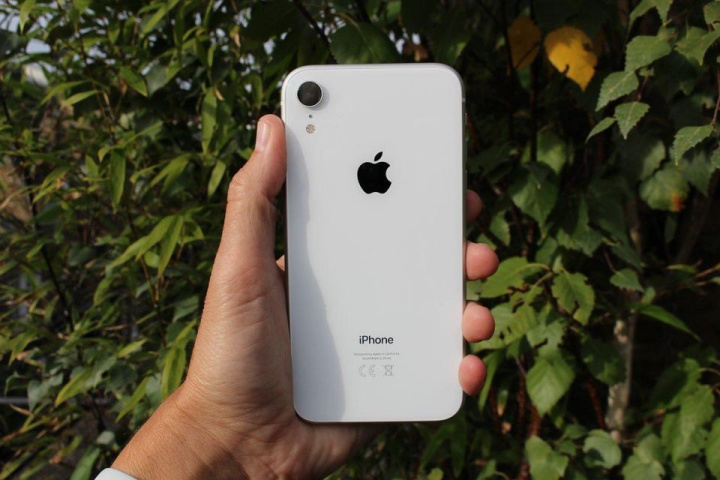apple: (354, 143, 399, 210)
